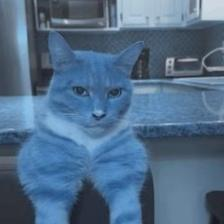kedo: (17, 31, 149, 223)
